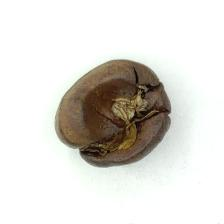NG: (75, 73, 159, 157)
